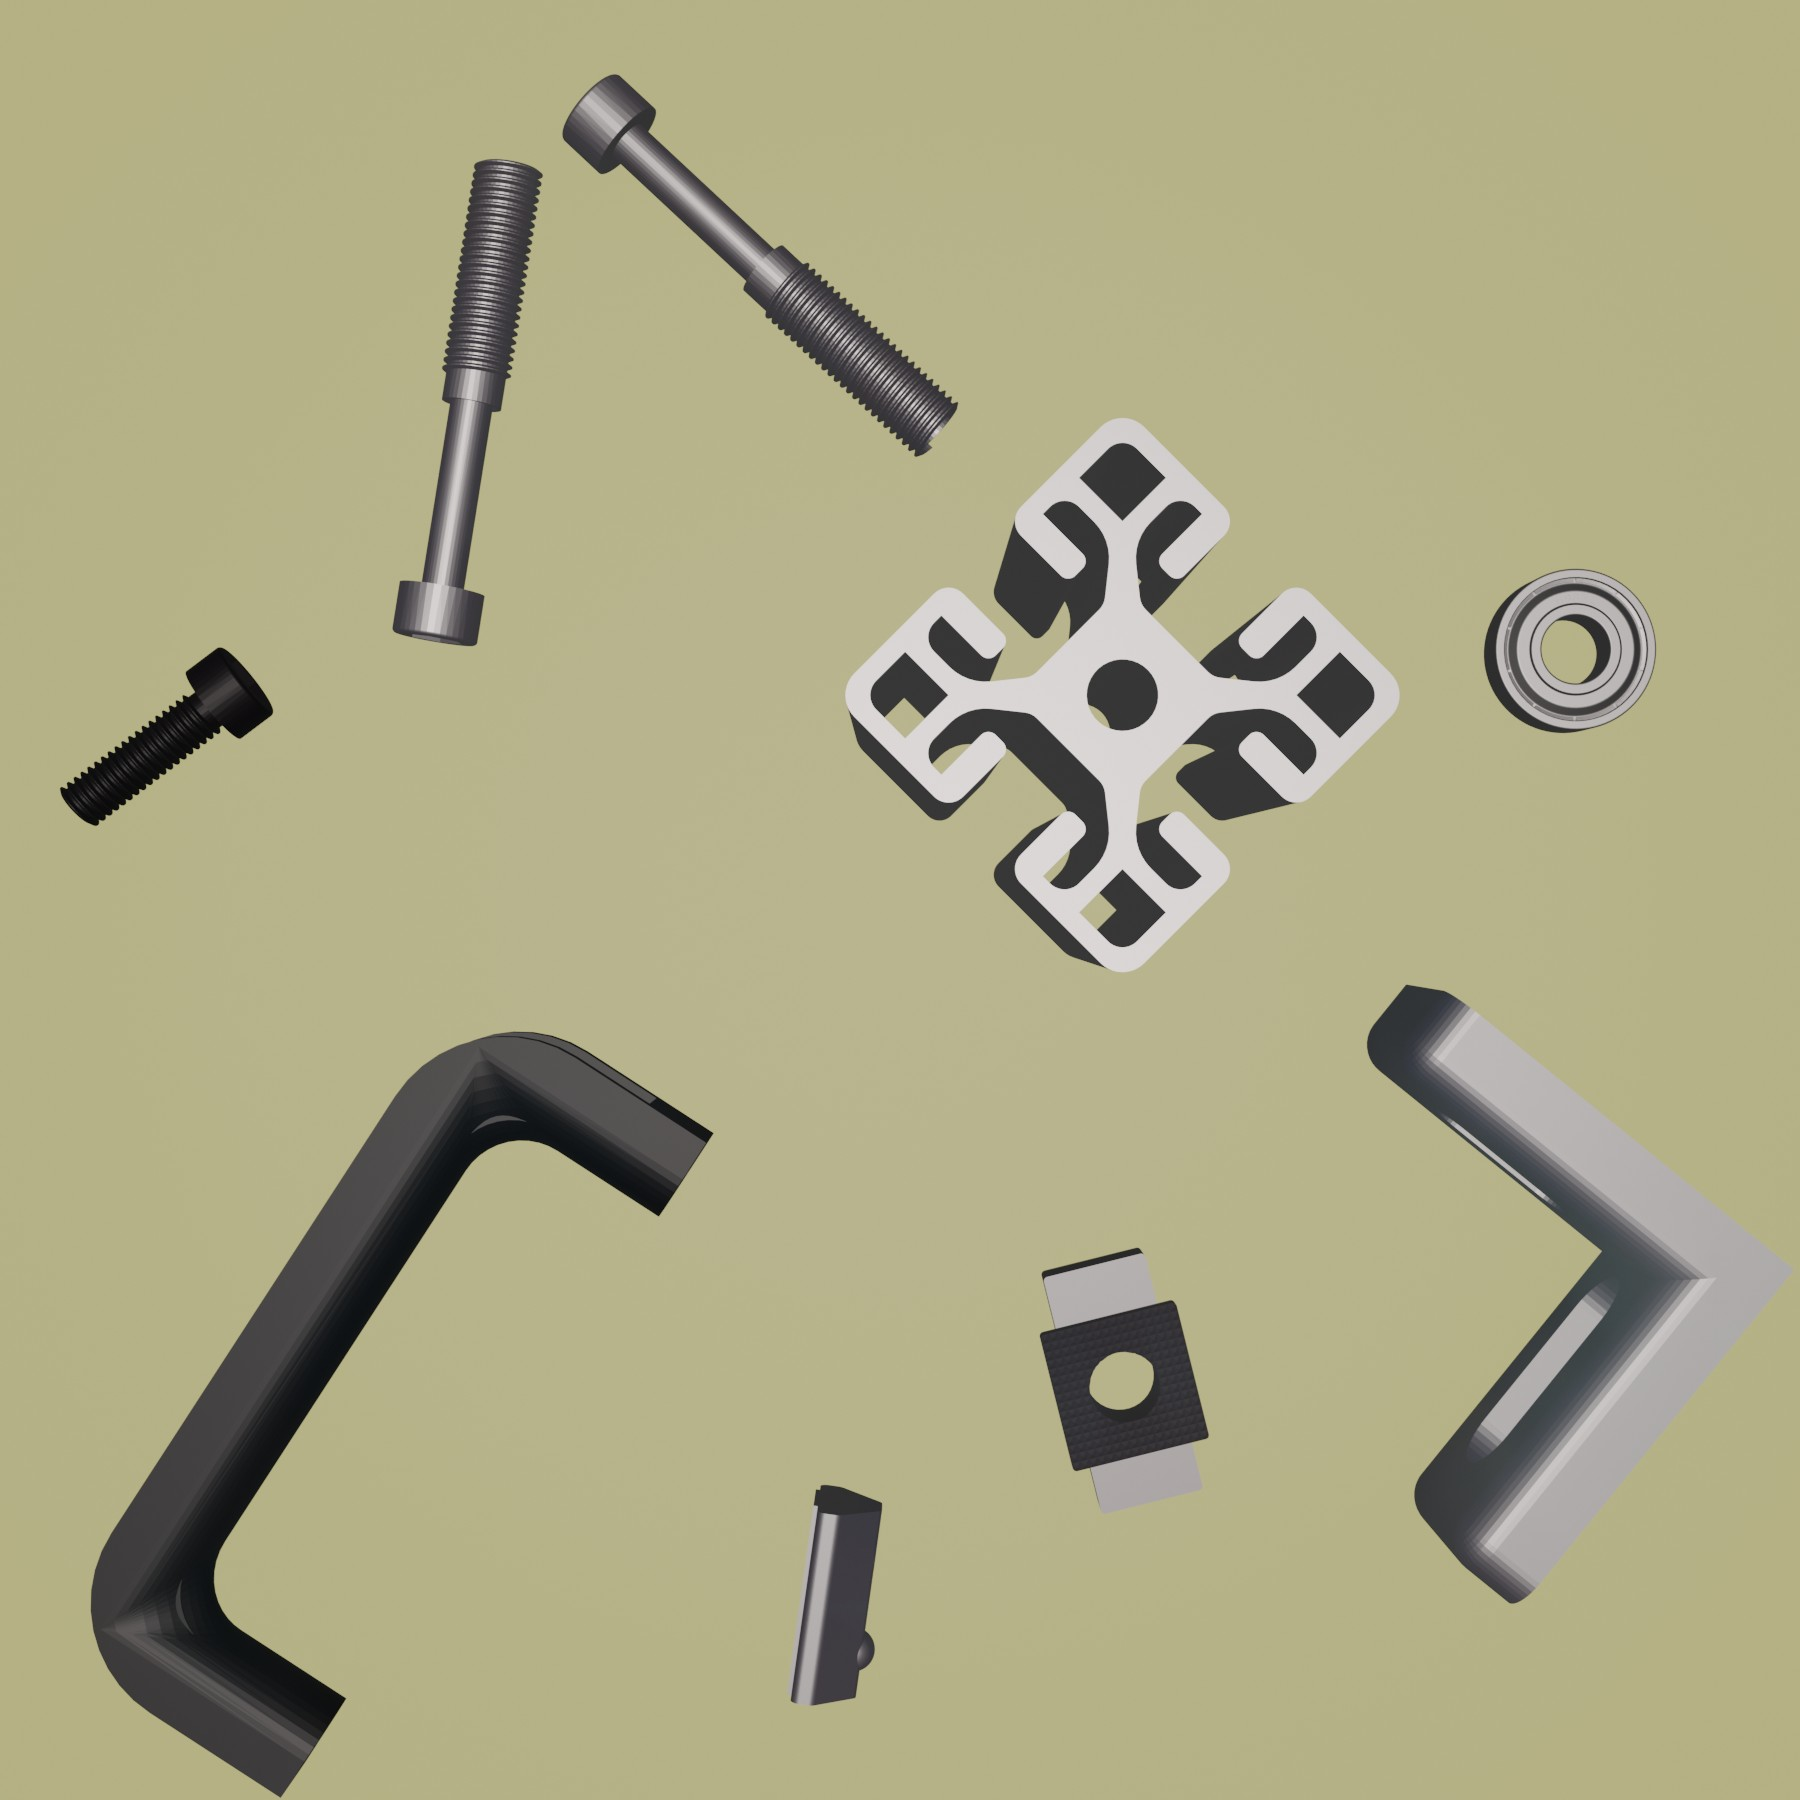Aluminium Extension: (842, 414, 1403, 977)
Ball Bearing: (1482, 565, 1658, 735)
Multiwinkel: (1365, 981, 1793, 1605)
Pull Handle: (87, 1030, 715, 1800)
Shoulder Socket Head Cap Screw: (560, 73, 961, 458), (389, 155, 546, 649)
Socket Head Cap Screw: (58, 643, 275, 827)
T Nut Square: (1035, 1246, 1212, 1516)
T Spring Nut: (788, 1480, 887, 1709)
